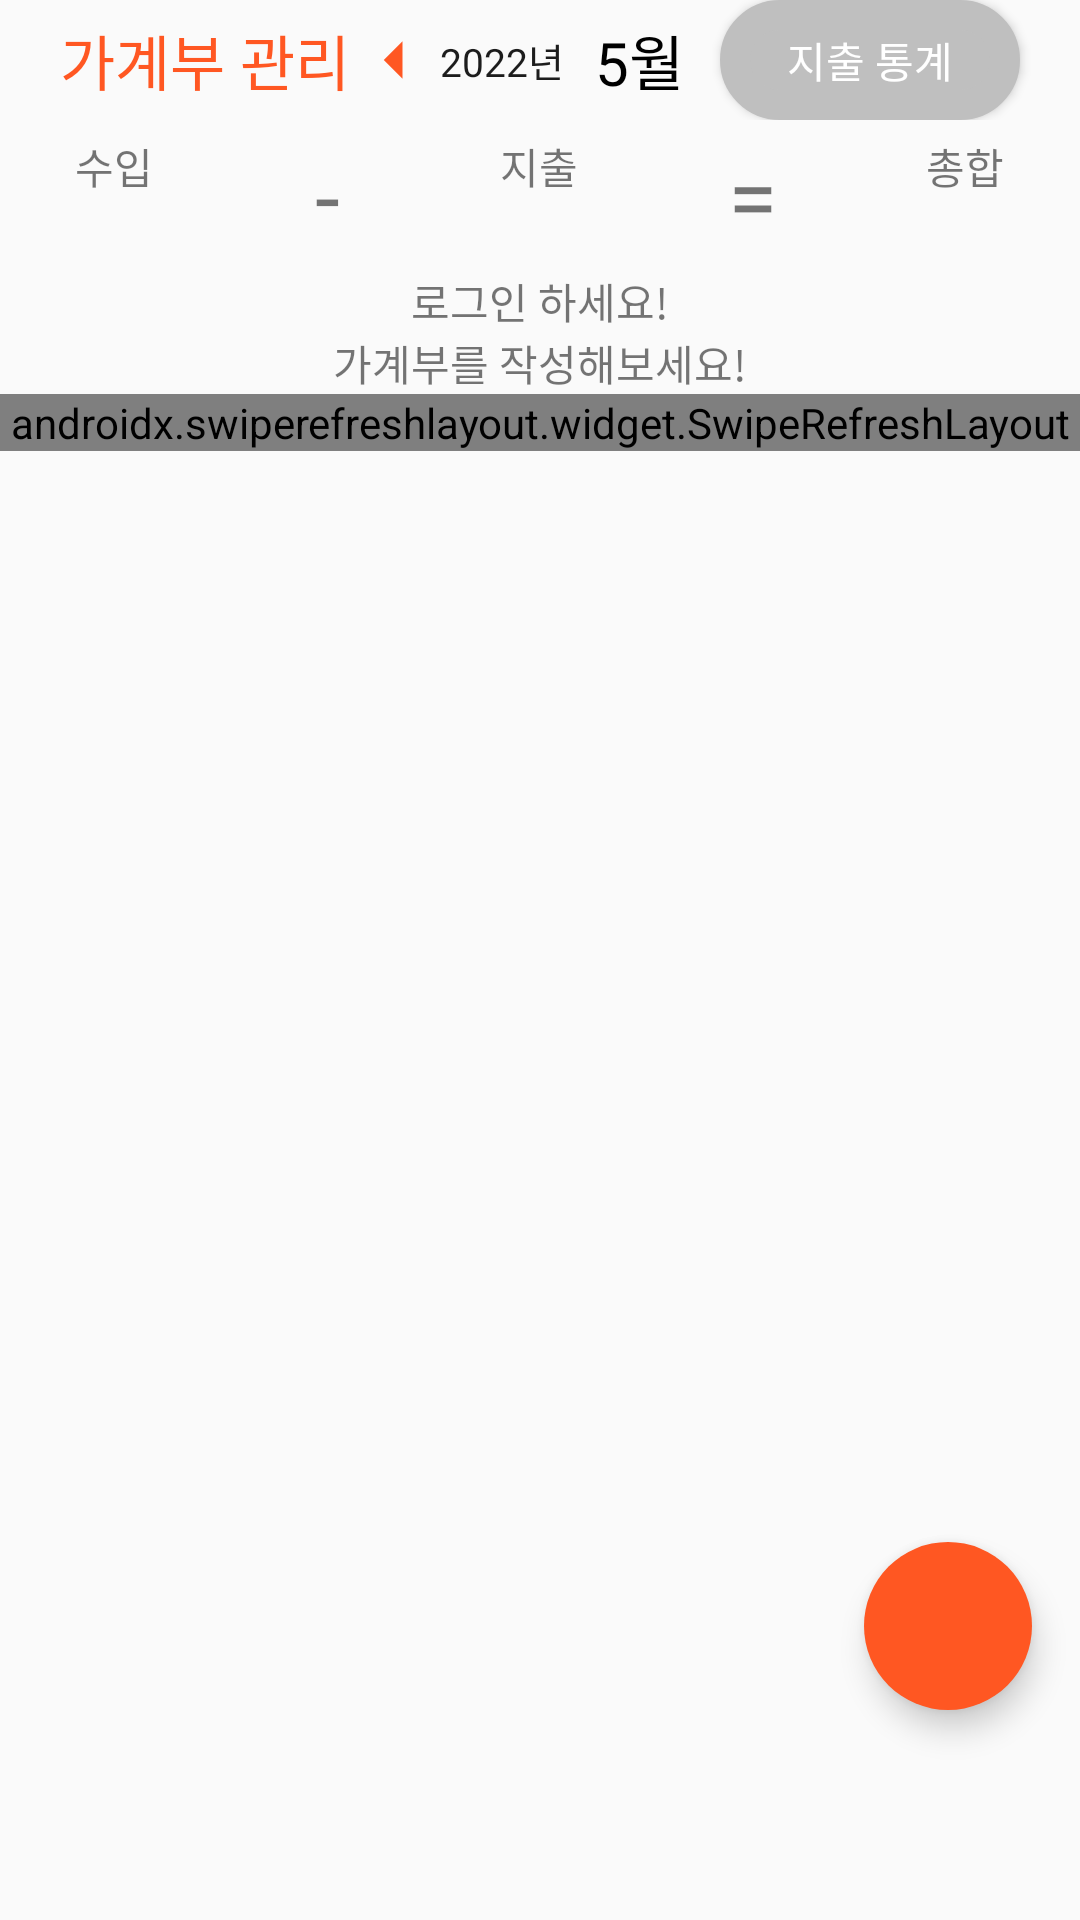

Screen size 1080px x 1920px. Icon name, then its box in pixels as [x1=x1, y1=y1, x2=x2, y2=y2]:
left: [x1=384, y1=41, x2=403, y2=79]
